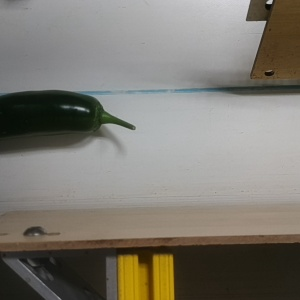Cut Point: (81, 94, 109, 134)
